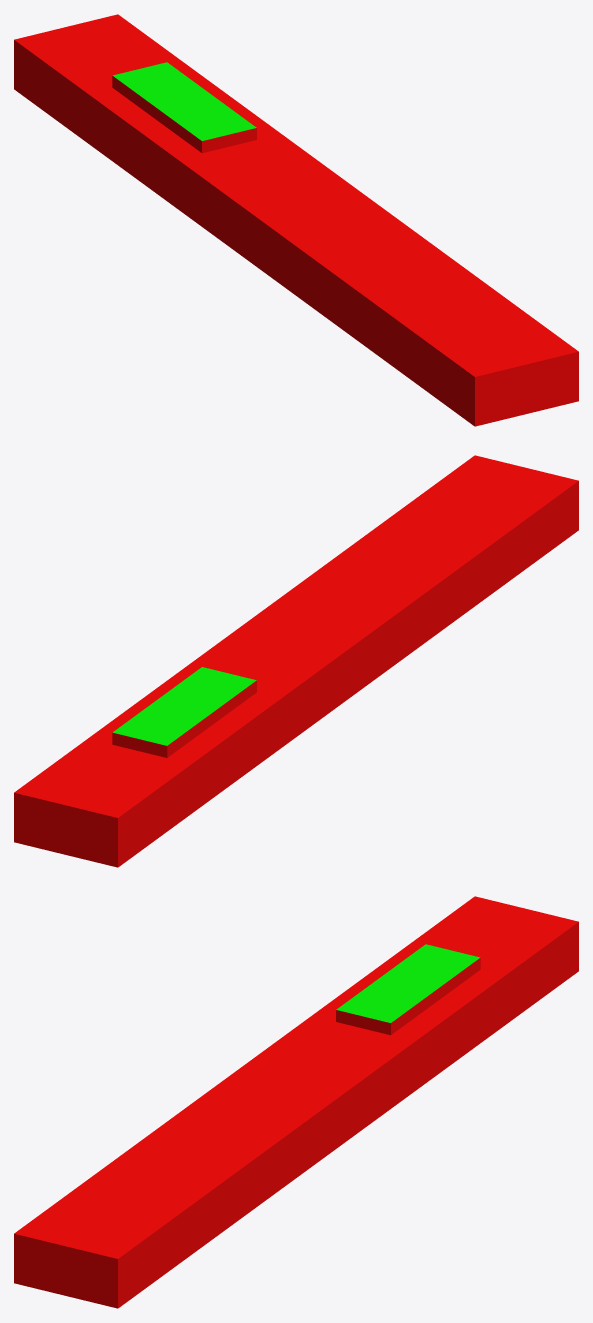
File: labeled.obj
3 views of the same model, one above another, from view 1: azimuth 30°, elevation 25°; view 2: azimuth 150°, elevation 25°; view 3: azimuth 330°, elevation 25° (orthographic).
Bounding box in the file's own units: 0.0199 × 0.0113 × 0.1527.
